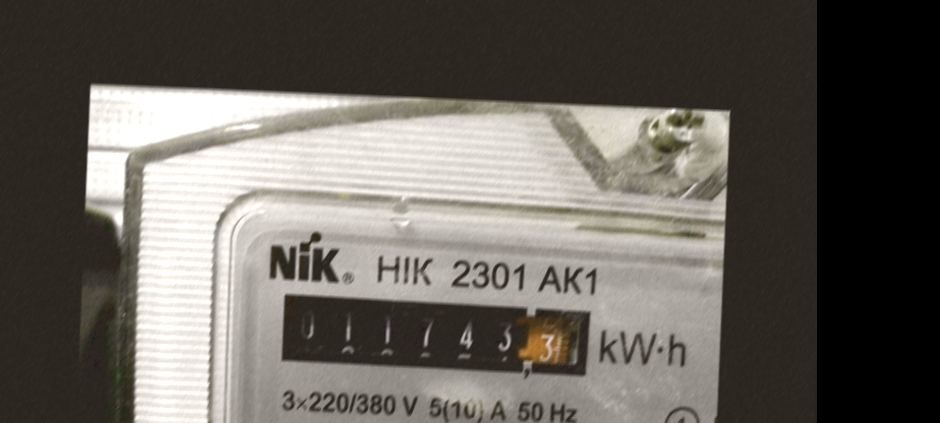0: (297, 307, 317, 343)
1: (380, 311, 396, 346), (343, 309, 354, 343)
3: (494, 319, 514, 355), (537, 333, 557, 366)
4: (457, 317, 475, 352)
7: (418, 315, 437, 349)
screen: (267, 282, 604, 390)
